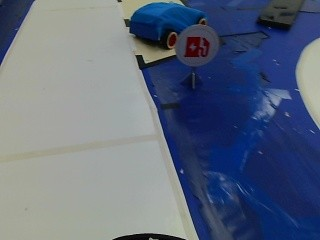battery: (176, 26, 217, 62)
car: (126, 1, 205, 42)
